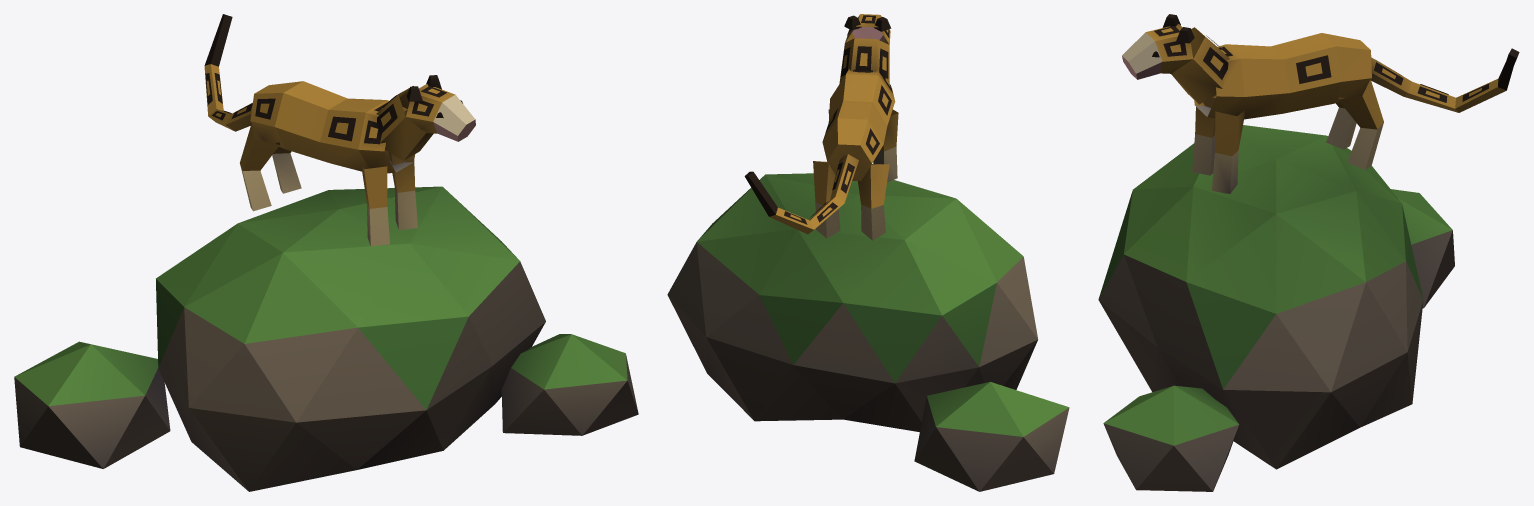
Rendered from jaguar.glb.
3 views of the same model, side by side, from view 1: azimuth 30°, elevation 25°; view 2: azimuth 150°, elevation 25°; view 3: azimuth 270°, elevation 25° (orthographic). The views are drawn at different scales.
Visible parts, largest first — view 1: rock, jaguar; view 2: rock, jaguar; view 3: rock, jaguar.
Boxes of the visible parts, box(x1,y1,x2,y2) form: rock: box(14, 186, 638, 491); jaguar: box(204, 14, 475, 246); rock: box(667, 173, 1069, 491); jaguar: box(744, 14, 898, 240); rock: box(1098, 125, 1454, 491); jaguar: box(1122, 14, 1519, 193).
Bounding box in the file's own units: 12.77 × 9.03 × 9.04.
